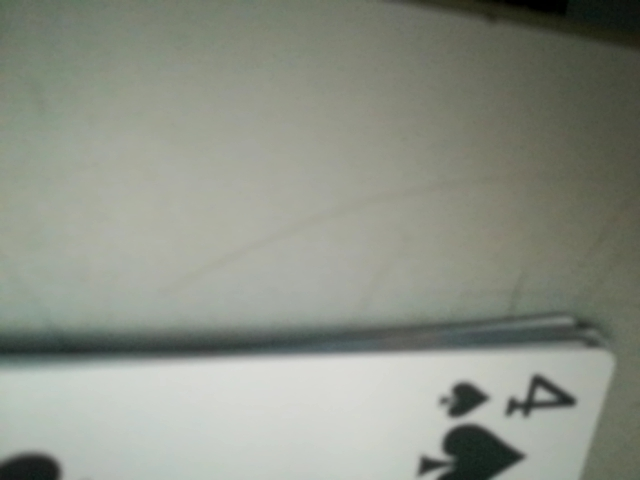ht 4: (432, 362, 588, 426)
